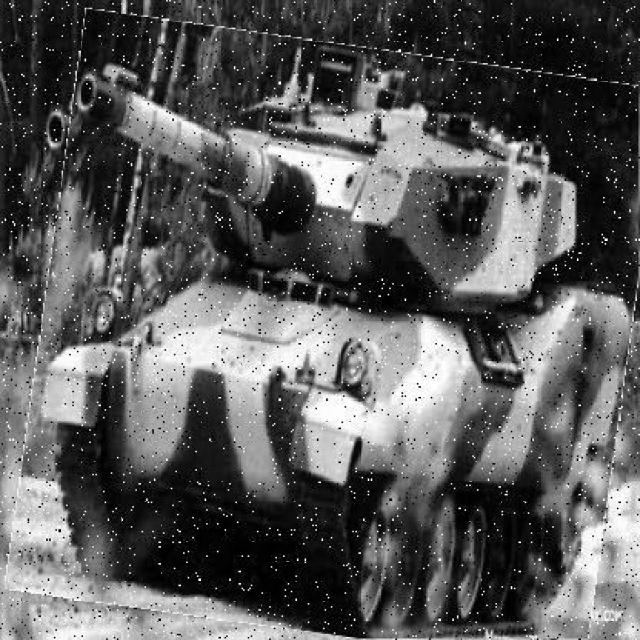Tank: (26, 27, 640, 640)
